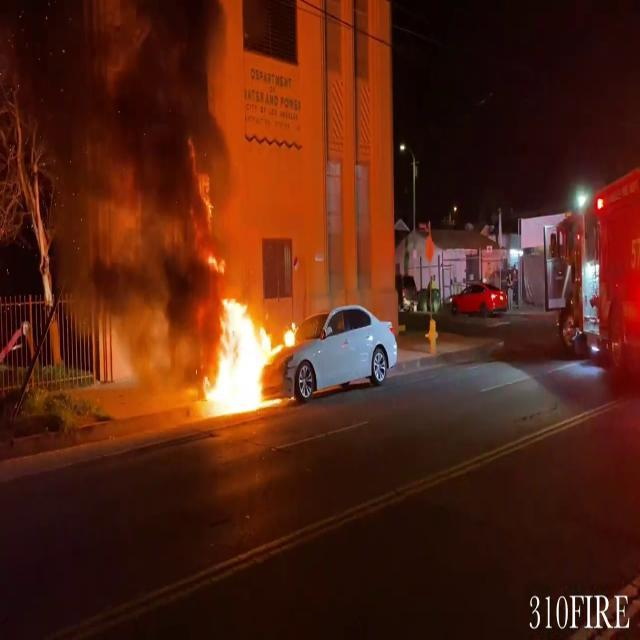Fire: (201, 276, 287, 418)
Smoke: (68, 0, 250, 278)
